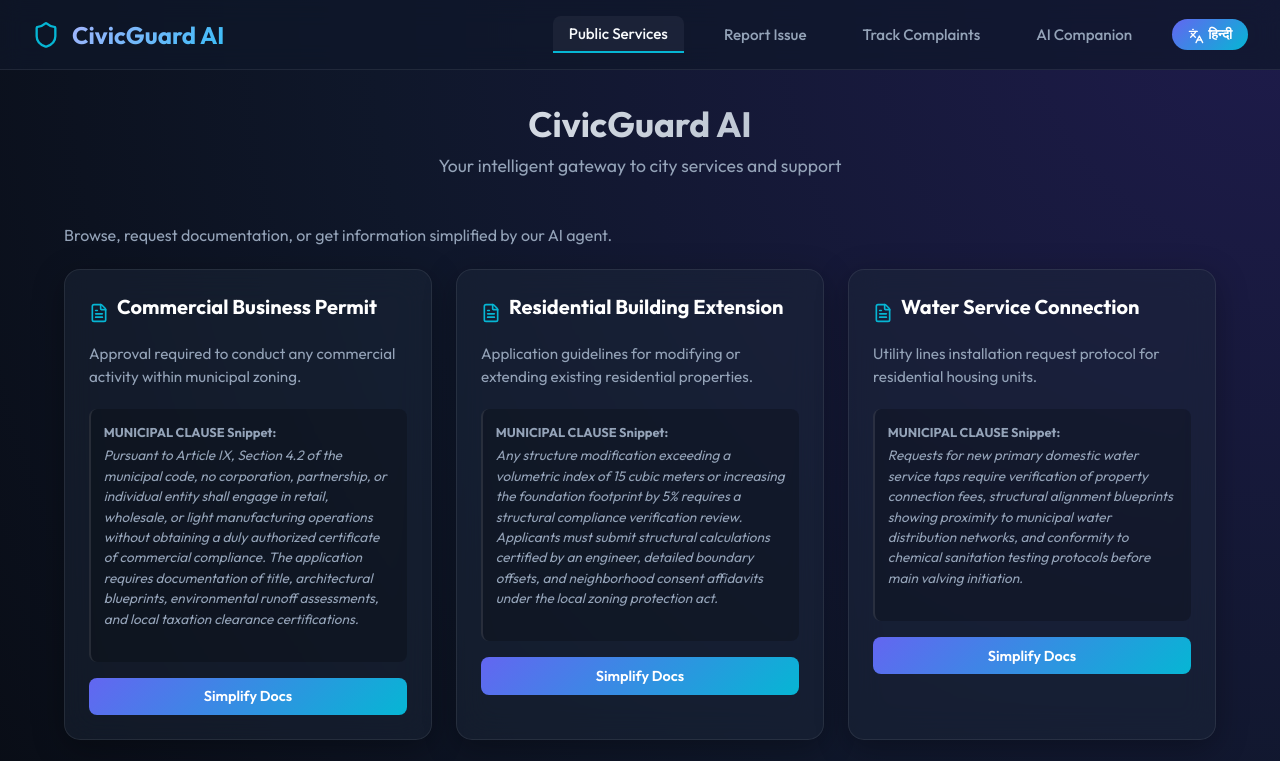
Test case: Report issue form › shows location error when geolocation fails
Click the button "Report Issue".
click(765, 34)  # box 708,17 -> 823,52
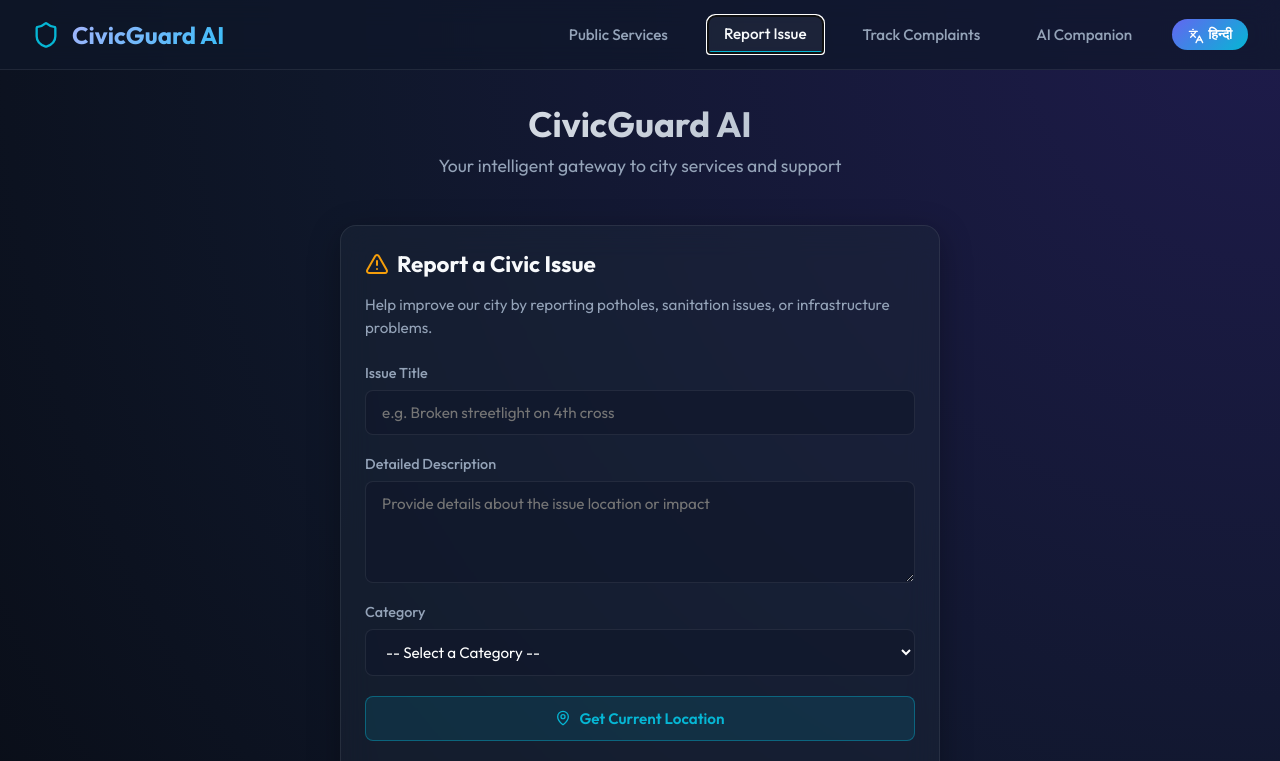
Click the button "Get Current Location".
click(640, 718)  # box 365,696 -> 915,741
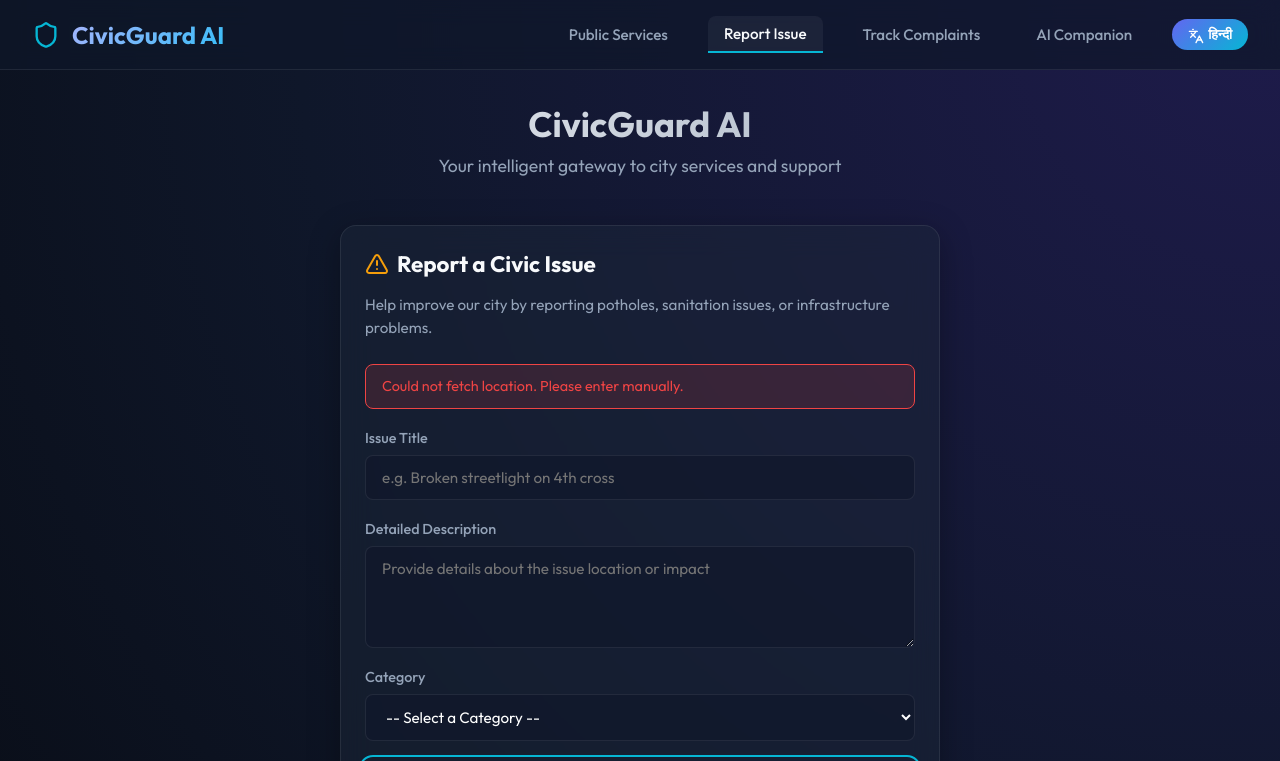
Now the text "Could not fetch location. Please enter manually." is shown, box 365,364 -> 915,409
